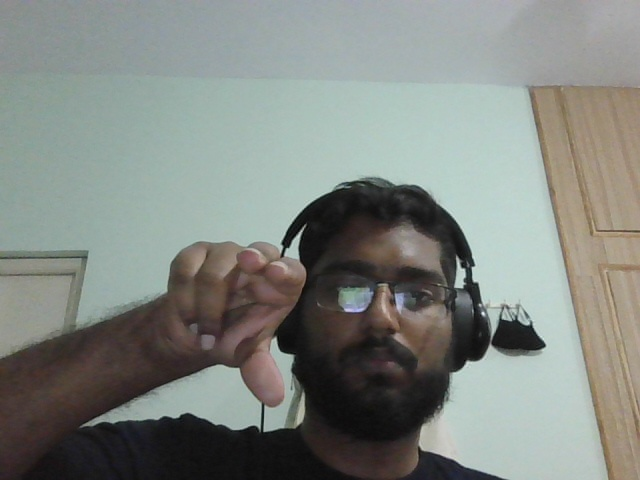No: (138, 215, 325, 422)
